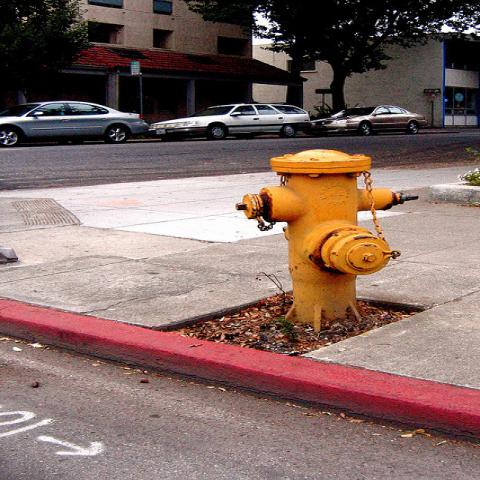car: (1, 101, 151, 146), (148, 103, 313, 141), (304, 105, 426, 136)
